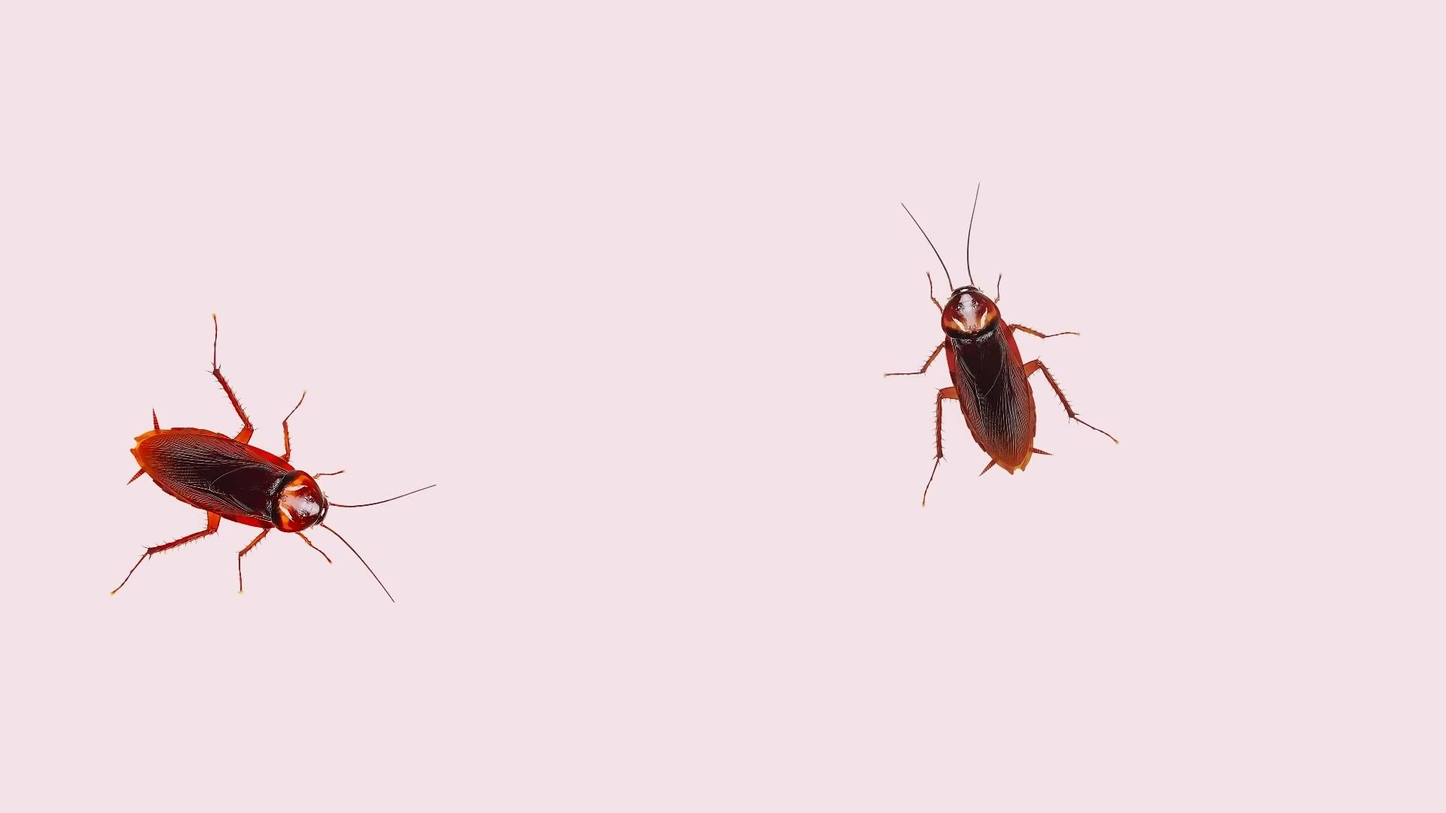cockroach: (125, 306, 393, 592), (887, 202, 1090, 514)
